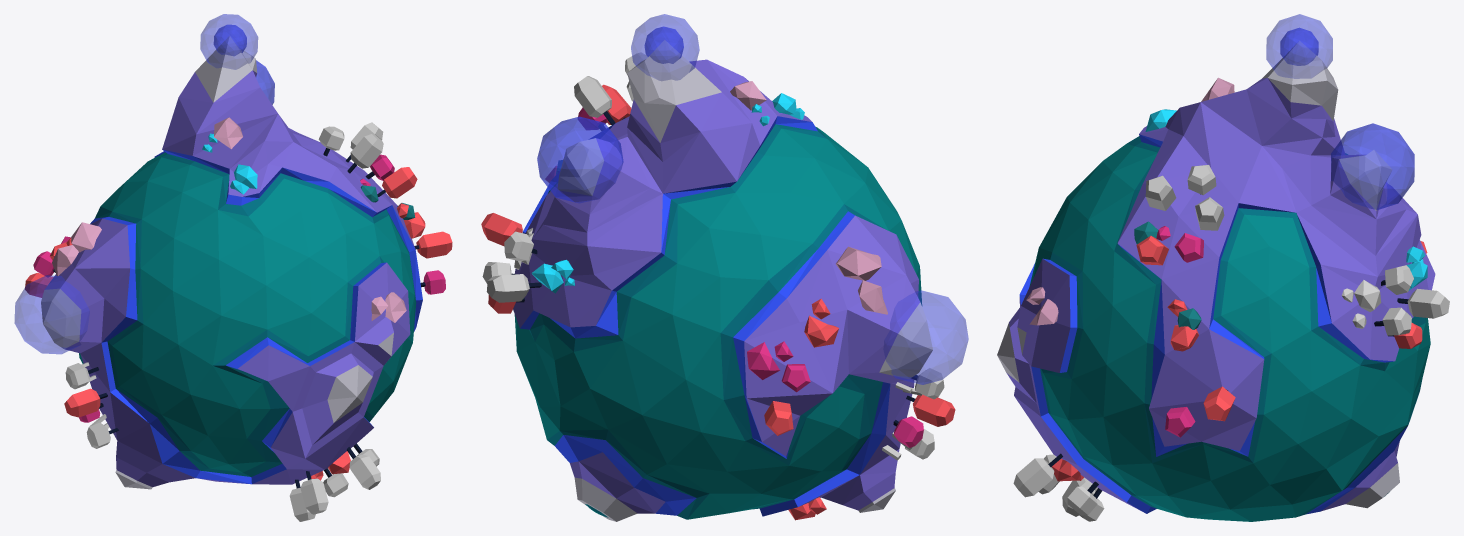
File: watchC_planet06.dae
3 views of the same model, side by side, from view 1: azimuth 30°, elevation 25°; view 2: azimuth 150°, elevation 25°; view 3: azimuth 270°, elevation 25° (orthographic). The views are drawn at different scales.
Parts seen in each view (by area): view 1: mundo1-001; view 2: mundo1-001; view 3: mundo1-001.
Boxes of the visible parts, x1,y1,x2,y2 form: mundo1-001: (14, 14, 452, 521); mundo1-001: (481, 14, 968, 521); mundo1-001: (997, 14, 1449, 521).
Size of the model in its own units: 2.77 by 2.75 by 2.22.
